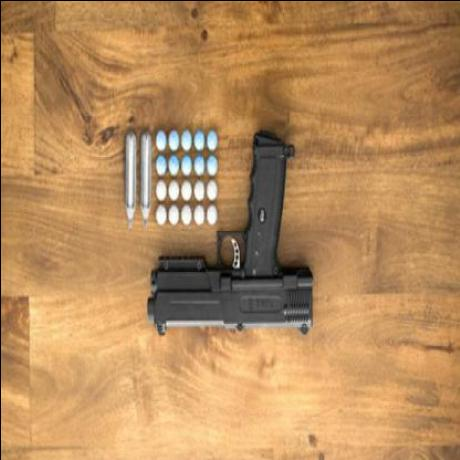weapon: (145, 130, 319, 336)
